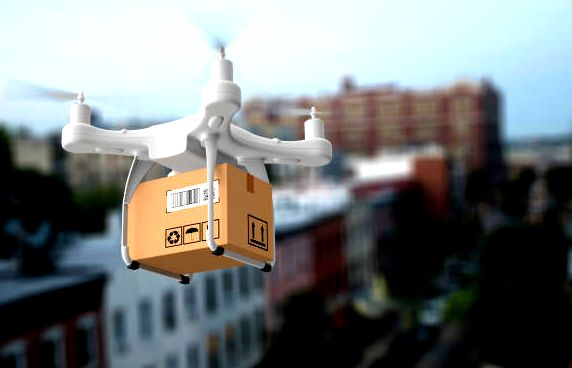Drone: (15, 21, 345, 191)
